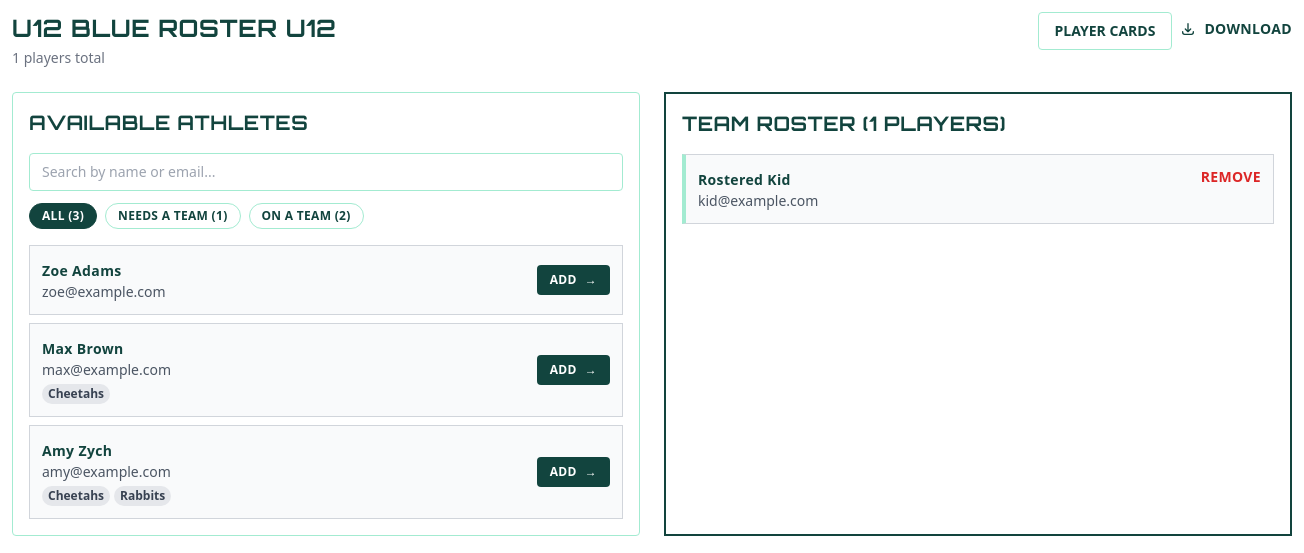
Test: search matches name or email and updates the pill counts
Expected: the button "All (3)" is shown, x1=29 y1=203 x2=97 y2=229
Step 1. Type "brown" into the search field named "Search available athletes" → (326, 172), box x1=29 y1=153 x2=623 y2=191
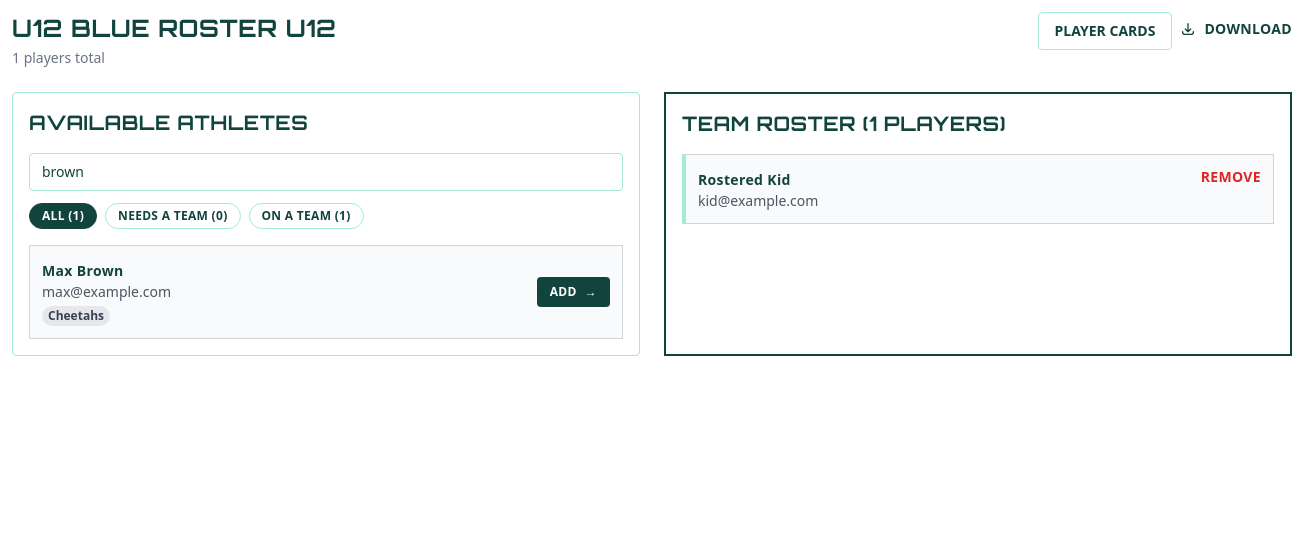
Result: the button "Zoe Adams" is gone
Result: the button "All (1)" is shown at x1=29 y1=203 x2=97 y2=229
Result: the button "Needs a team (0)" is shown at x1=105 y1=203 x2=240 y2=229
Step 2. Replace the text in the search field named "Search available athletes" with "zoe@example.com" → (326, 172), box x1=29 y1=153 x2=623 y2=191
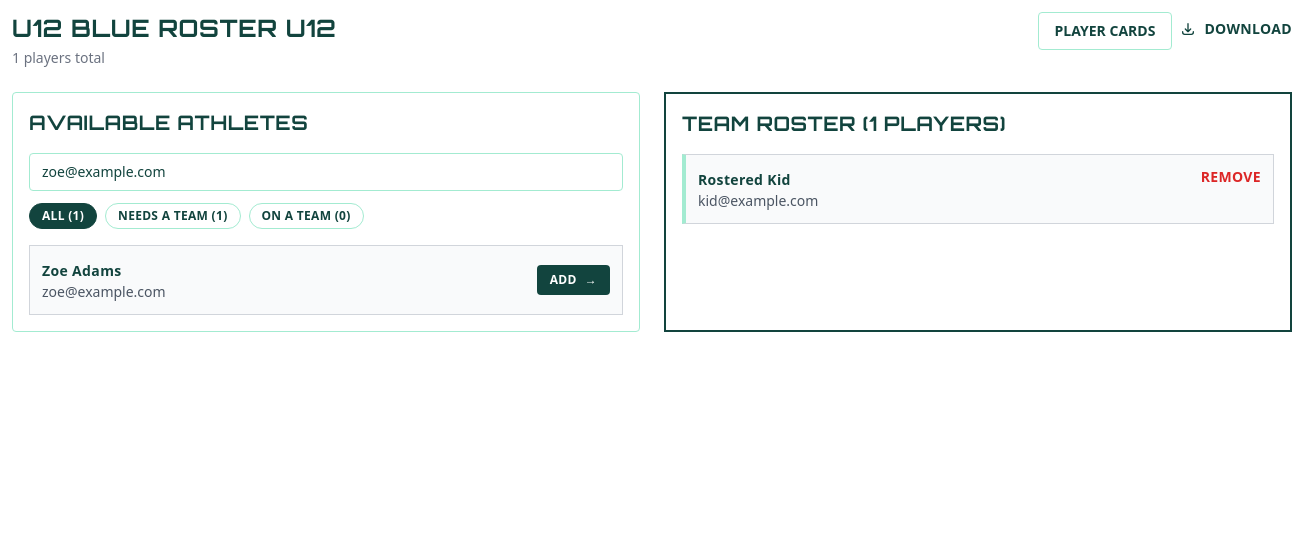
Result: the button "Zoe Adams" is shown at x1=42 y1=261 x2=122 y2=281
Result: the button "Max Brown" is gone
